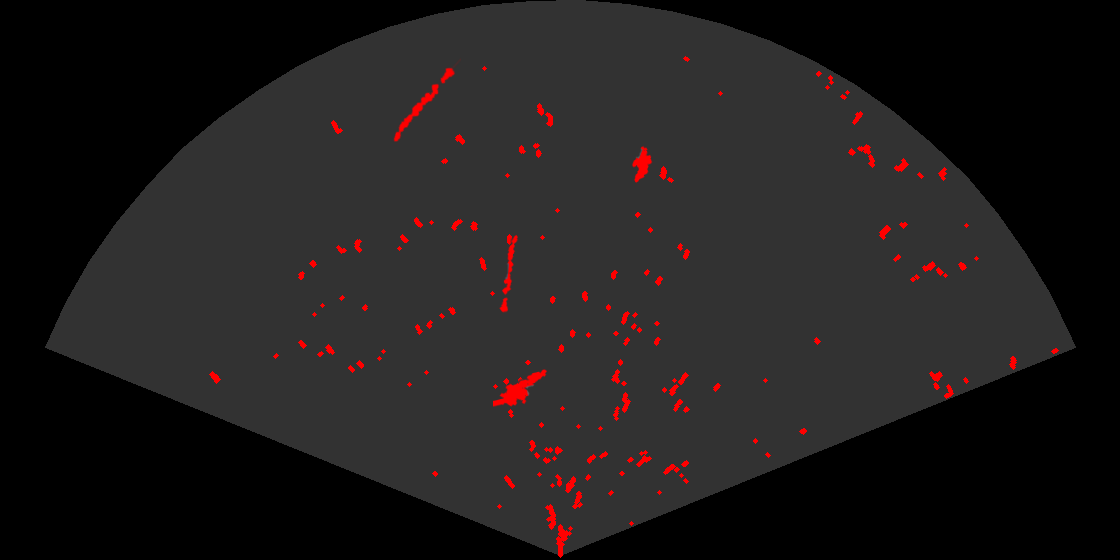AUV: (630, 144, 654, 185)
chain: (392, 57, 461, 143), (498, 233, 519, 313)
frogman: (493, 368, 549, 408)
